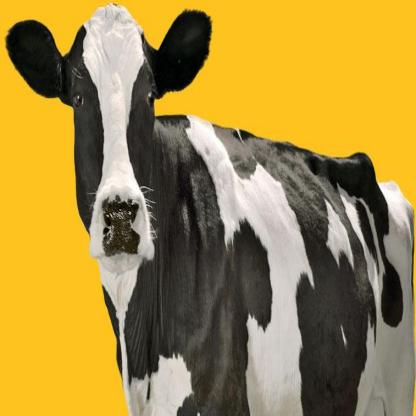cow: (7, 8, 414, 416)
